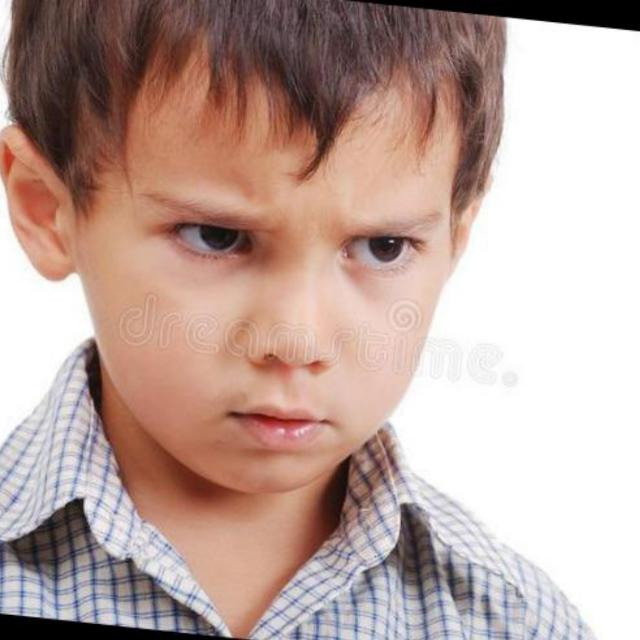Angry: (48, 35, 509, 616)
